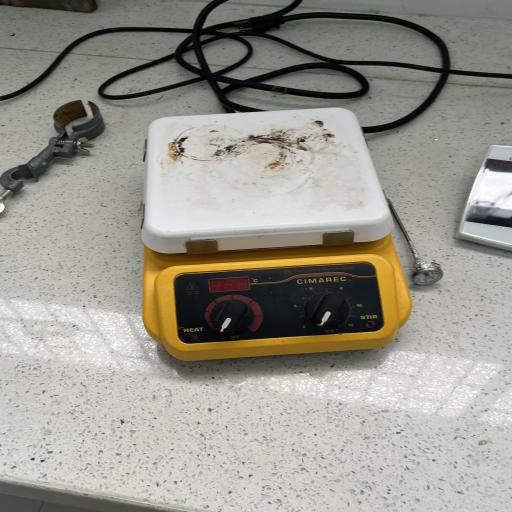Plancha_Agitacion_Cimarec: (126, 103, 413, 372)
